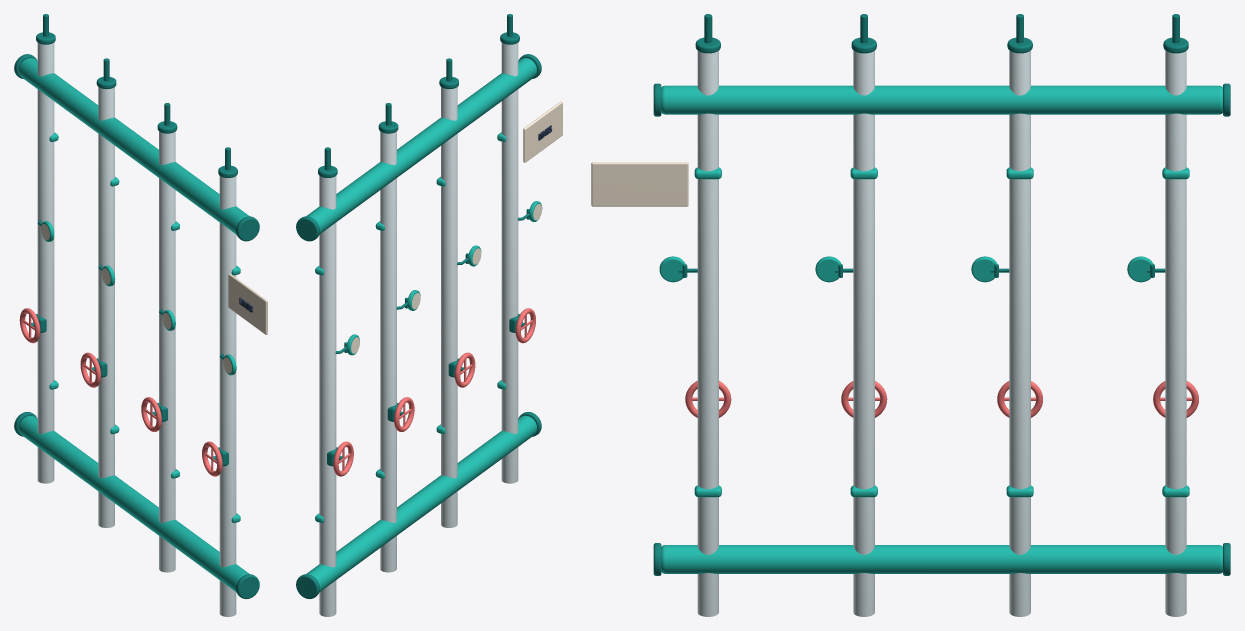
Rendered from PipeGallery.fbx.
3 views of the same model, side by side, from view 1: azimuth 30°, elevation 25°; view 2: azimuth 150°, elevation 25°; view 3: azimuth 270°, elevation 25° (orthographic). The views are drawn at different scales.
Visible parts, largest first — view 1: PipeGallery mesh; view 2: PipeGallery mesh; view 3: PipeGallery mesh.
Part boxes in pixels (<box>): PipeGallery mesh: <box>14,14,267,616</box>; PipeGallery mesh: <box>296,14,562,616</box>; PipeGallery mesh: <box>591,14,1230,616</box>.
Bounding box in the file's own units: 0.223 × 3.38 × 3.28.
